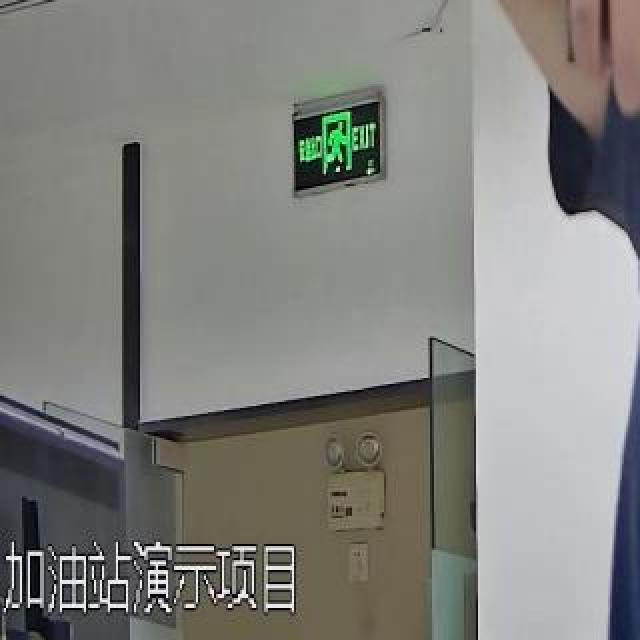Guns: (636, 0, 640, 452)
